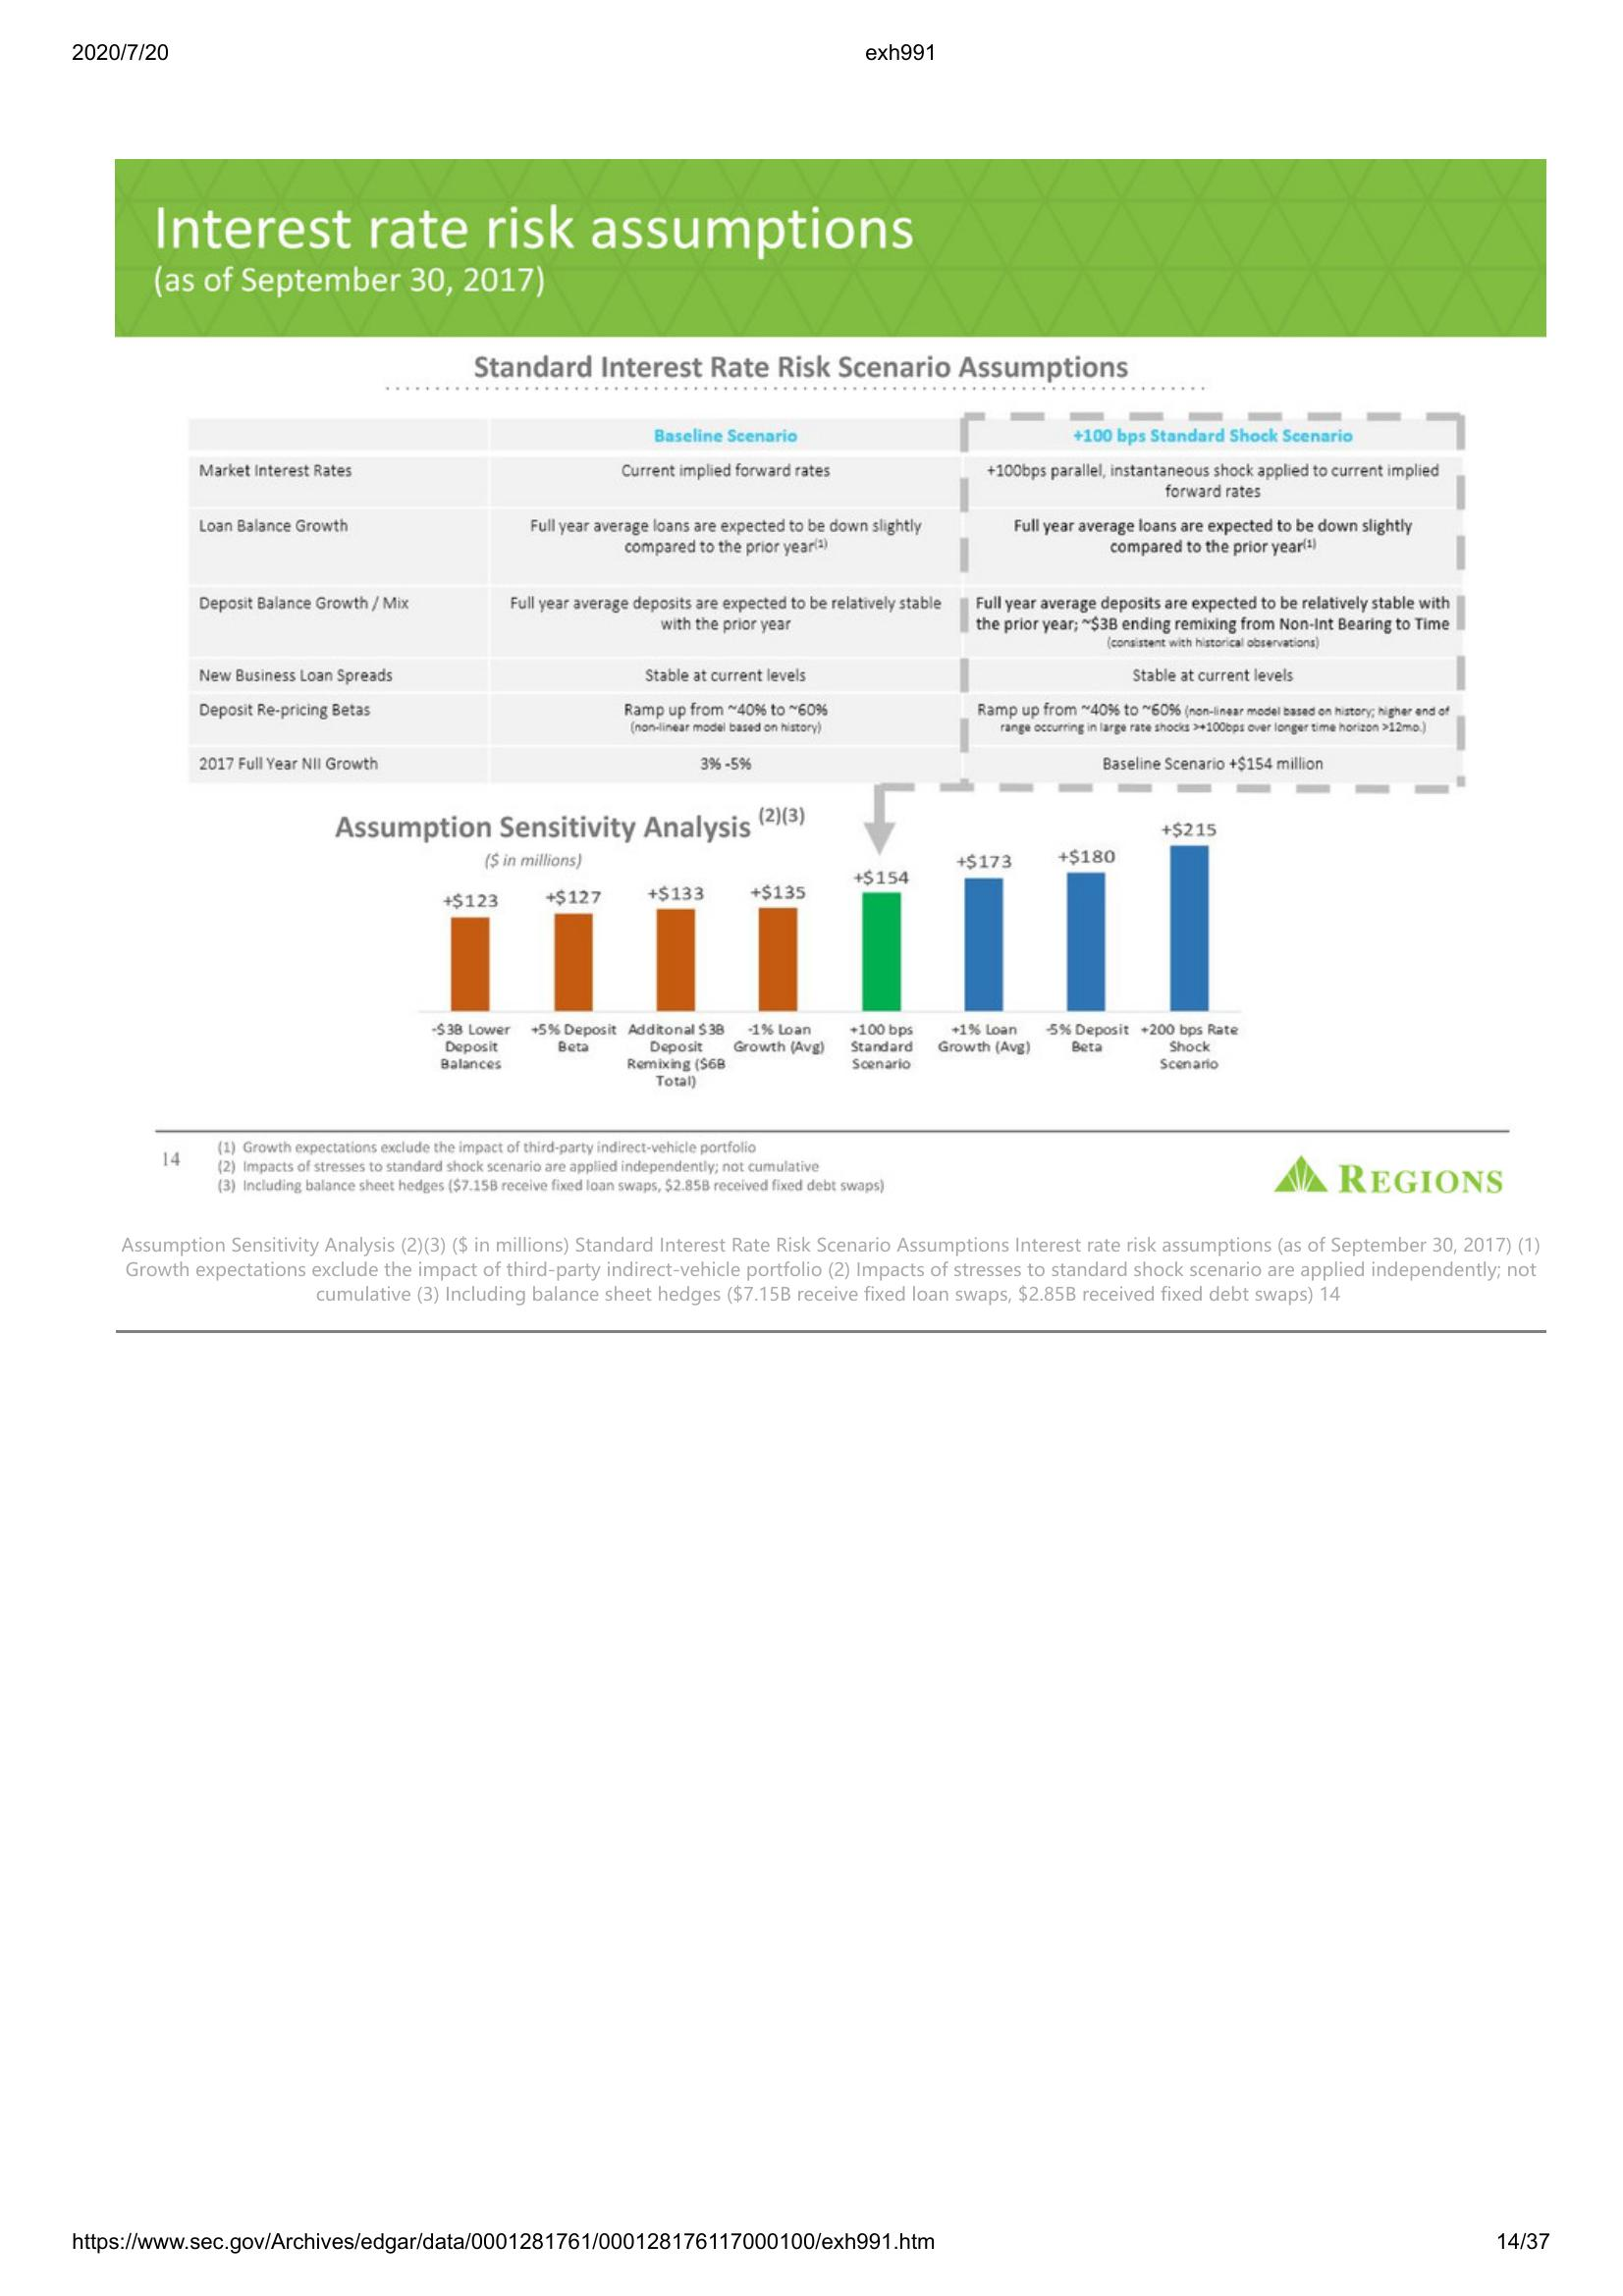table: (179, 404, 1470, 800)
